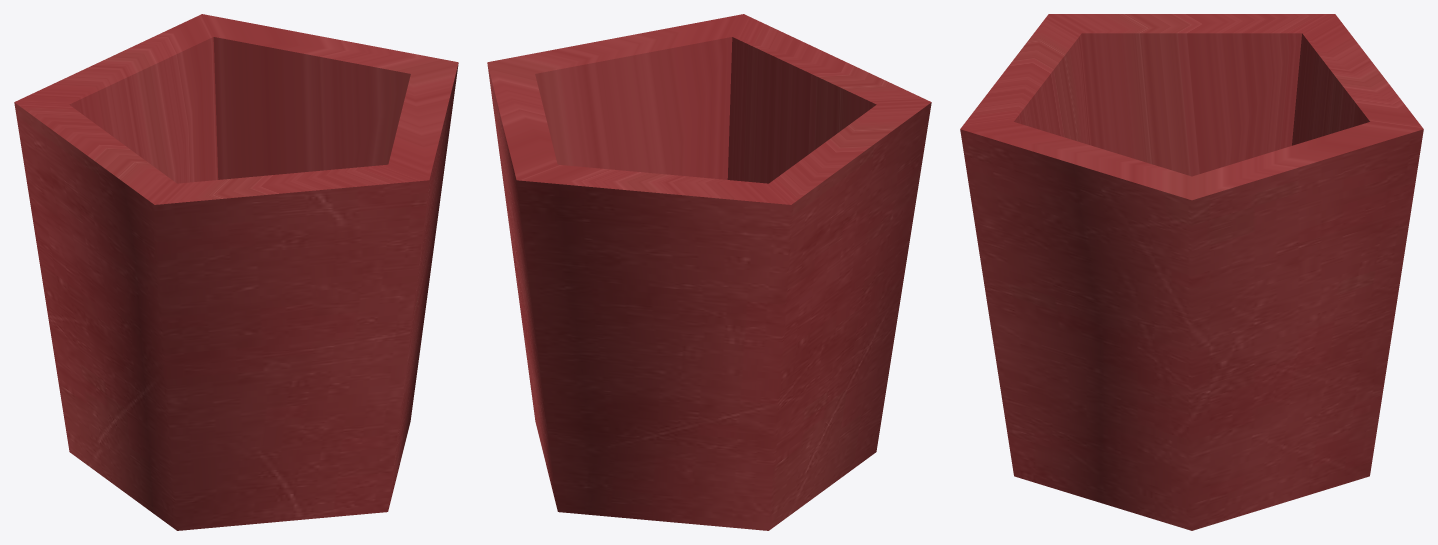
The model's file is bin.FBX.
3 views of the same model, side by side, from view 1: azimuth 30°, elevation 25°; view 2: azimuth 150°, elevation 25°; view 3: azimuth 270°, elevation 25° (orthographic). The views are drawn at different scales.
Visible parts, largest first — view 1: Cylinder001; view 2: Cylinder001; view 3: Cylinder001.
Boxes of the visible parts, x1,y1,x2,y2 form: Cylinder001: (14,14,458,530); Cylinder001: (487,14,931,530); Cylinder001: (960,14,1423,530).
Bounding box in the file's own units: 86.63 × 76.85 × 91.09.
Materials: 2 (2 with a texture image).
